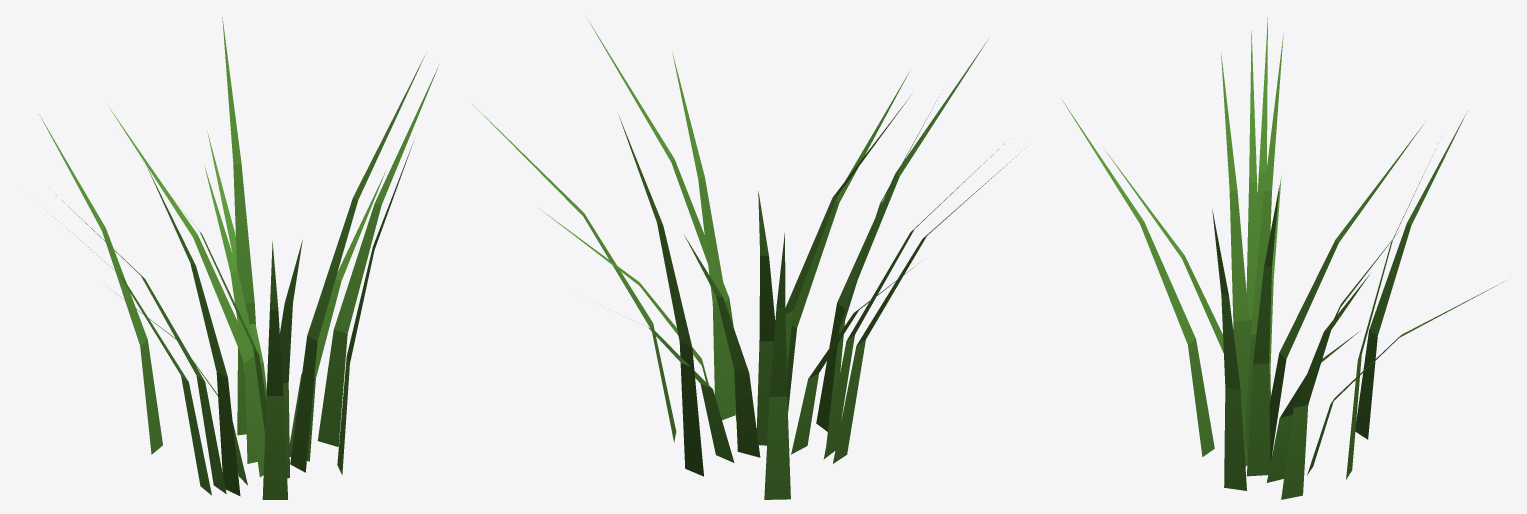
Rendered from grass.glb.
3 views of the same model, side by side, from view 1: azimuth 30°, elevation 25°; view 2: azimuth 150°, elevation 25°; view 3: azimuth 270°, elevation 25° (orthographic). The views are drawn at different scales.
Parts seen in each view (by area): view 1: grass; view 2: grass; view 3: grass.
Boxes of the visible parts, bbox=[...] form: grass: bbox=[39, 17, 439, 499]; grass: bbox=[472, 17, 1021, 499]; grass: bbox=[1062, 17, 1502, 499].
Size of the model in its own units: 1.09 by 0.8276 by 0.9387.
